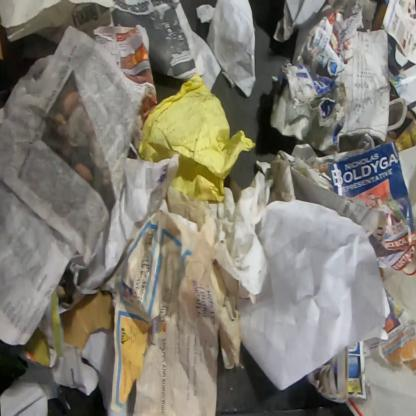cardboard: (269, 0, 365, 156), (255, 149, 334, 205), (60, 290, 114, 349), (0, 26, 11, 66)
